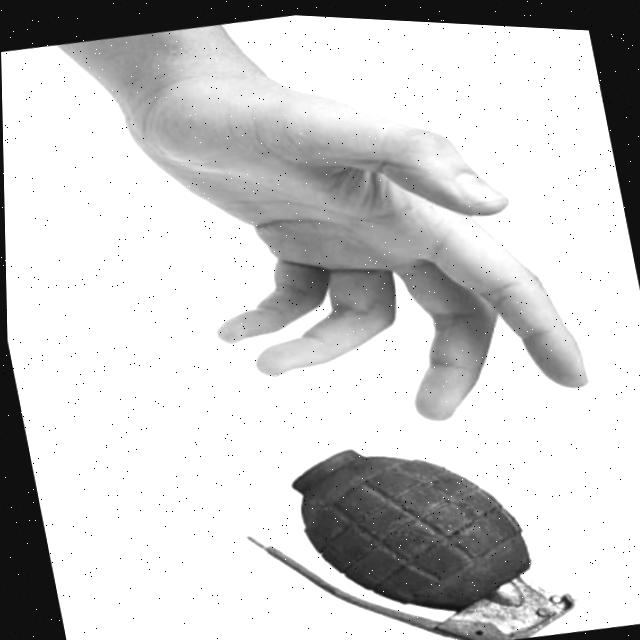grenade: (194, 375, 598, 640)
